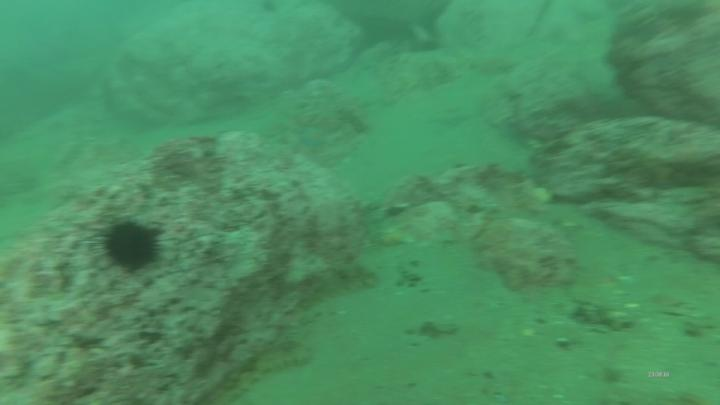echinus: (105, 218, 161, 271)
holothurian: (248, 342, 318, 378), (313, 261, 376, 299)
starfish: (292, 121, 334, 154)
